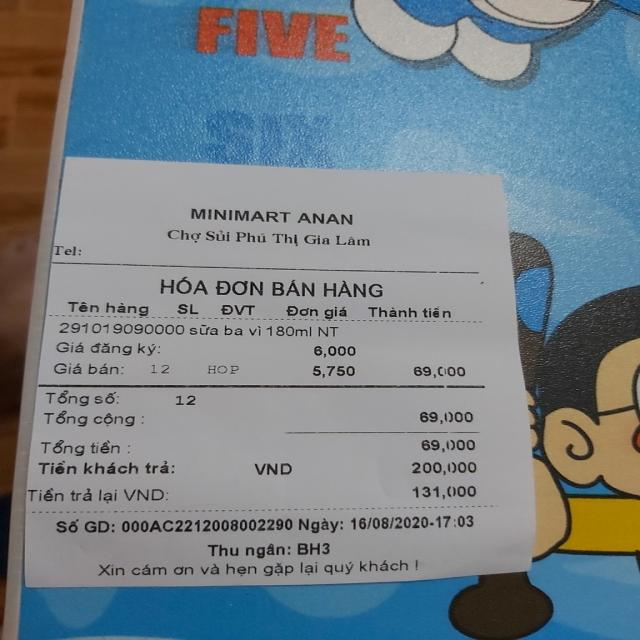Date: (348, 514, 434, 530)
Store_Name: (182, 200, 364, 230)
amount_number: (414, 433, 483, 453)
label_total: (39, 437, 122, 457)
